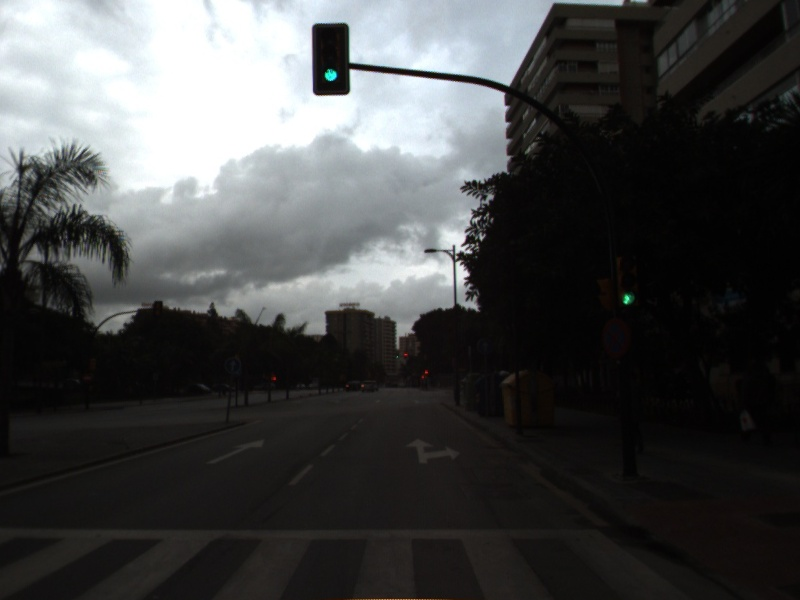STRAIGHT: (204, 436, 267, 466)
STRAIGHT_RIGHT: (402, 436, 463, 466)
